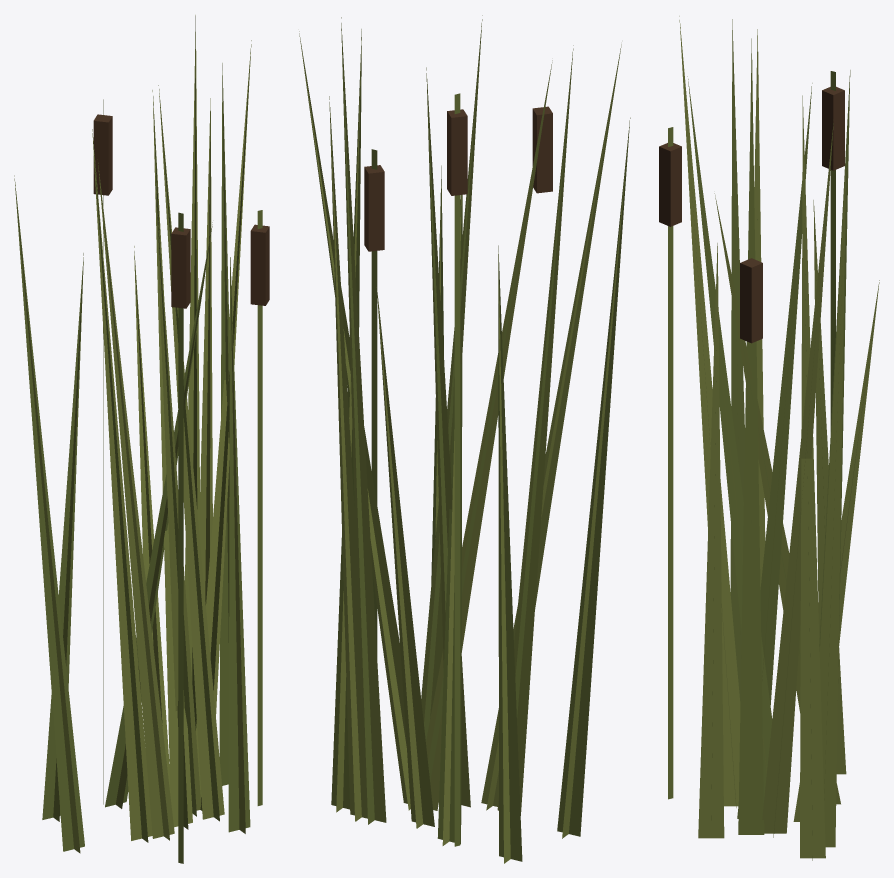
Rendered from e6_siv.glb.
3 views of the same model, side by side, from view 1: azimuth 30°, elevation 25°; view 2: azimuth 150°, elevation 25°; view 3: azimuth 270°, elevation 25° (orthographic). The views are drawn at different scales.
Visible parts, largest first — view 1: E6_sivklump; view 2: E6_sivklump; view 3: E6_sivklump.
Boxes of the visible parts, x1,y1,x2,y2 form: E6_sivklump: (14, 15, 269, 863); E6_sivklump: (299, 15, 630, 863); E6_sivklump: (659, 16, 879, 860).
Bounding box in the file's own units: 0.6273 × 1.66 × 0.4234.
